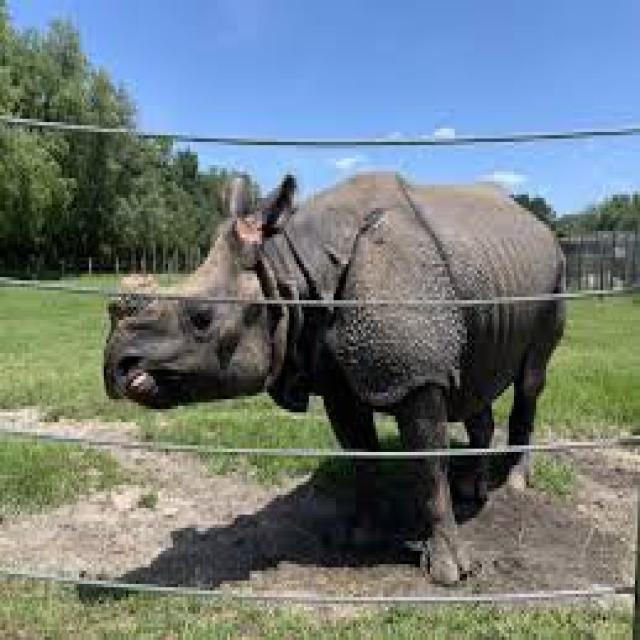rhinoceros: (104, 172, 563, 449)
